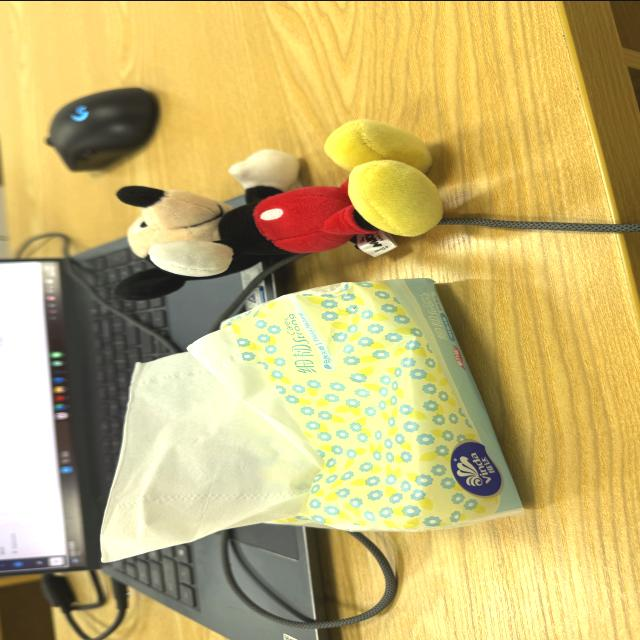mickey: (117, 119, 442, 299)
tissue: (103, 278, 522, 559), (101, 352, 321, 561)
